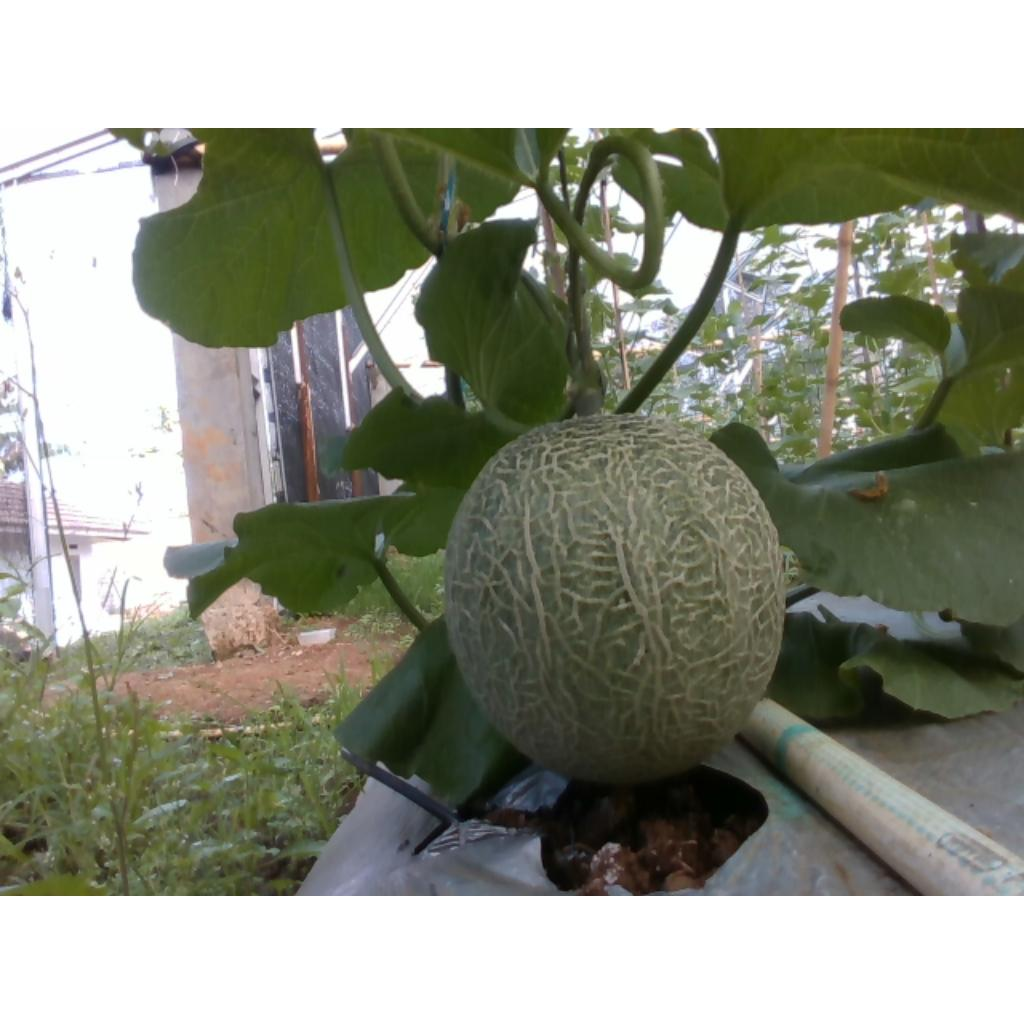melon: (446, 416, 784, 783)
